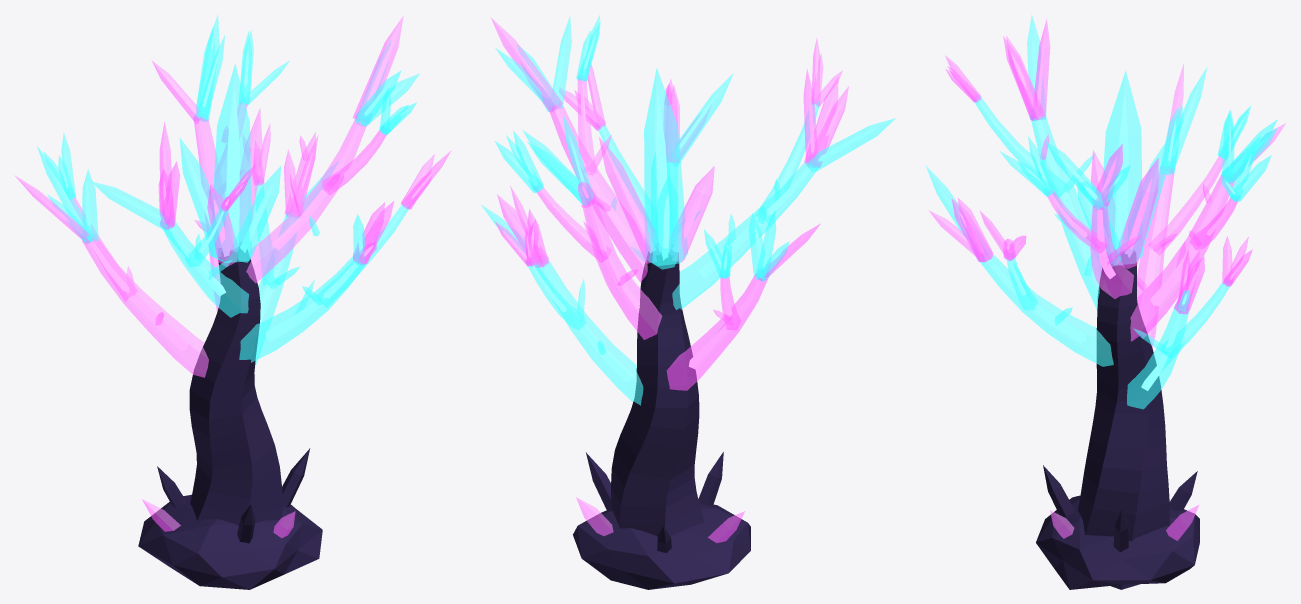
File: exotic_crystal_tree_a.glb
The picture shows the model from 3 angles, left to right: view 1: azimuth 30°, elevation 25°; view 2: azimuth 150°, elevation 25°; view 3: azimuth 270°, elevation 25°; orthographic projection.
Parts seen in each view (by area): view 1: exotic_crystal_tree_a_mesh; view 2: exotic_crystal_tree_a_mesh; view 3: exotic_crystal_tree_a_mesh.
Boxes of the visible parts, x1,y1,x2,y2 form: exotic_crystal_tree_a_mesh: (14,15,450,589); exotic_crystal_tree_a_mesh: (481,15,895,589); exotic_crystal_tree_a_mesh: (925,14,1285,589).
Size of the model in its own units: 5.59 by 7.49 by 4.83.
